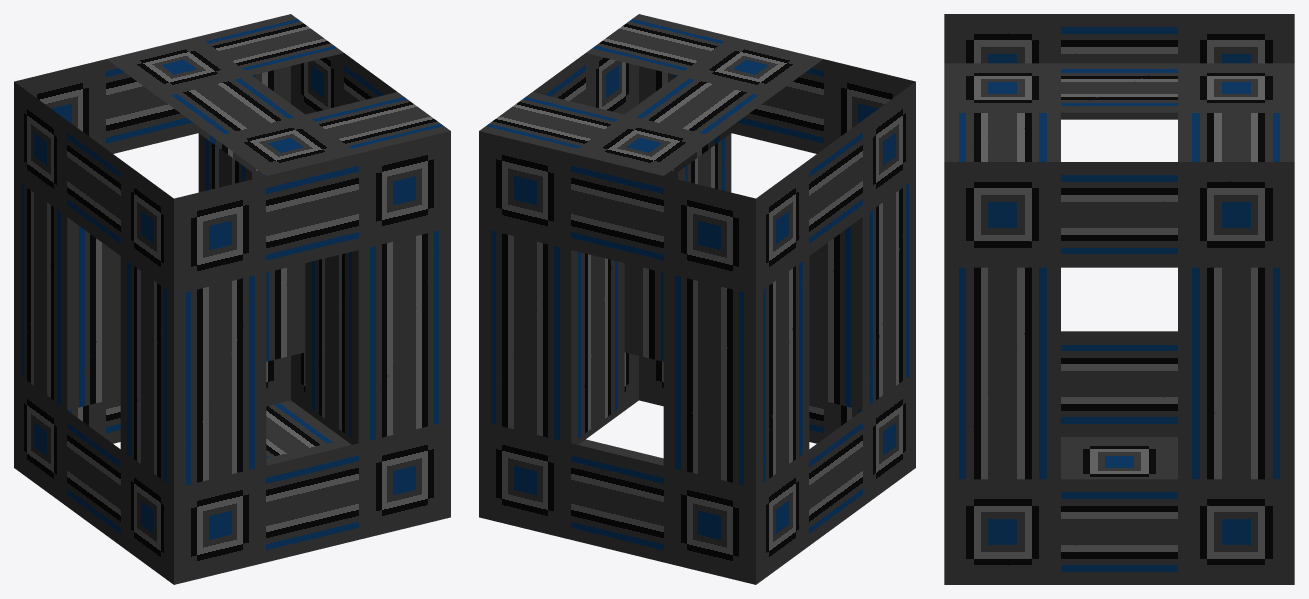
The model's file is multiblockadv.obj.
3 views of the same model, side by side, from view 1: azimuth 30°, elevation 25°; view 2: azimuth 150°, elevation 25°; view 3: azimuth 270°, elevation 25° (orthographic). The views are drawn at different scales.
Visible parts, largest first — view 1: Cube.003_Cube.006, Cube_Cube.001, Cube.002, Cube.004, Cube.001_Cube, Cube.005; view 2: Cube.003_Cube.006, Cube_Cube.001, Cube.001_Cube, Cube.005, Cube.002, Cube.004; view 3: Cube.003_Cube.006, Cube_Cube.001, Cube.005, Cube.004.
Boxes of the visible parts, bbox=[...] form: Cube.003_Cube.006: bbox=[14, 14, 450, 294]; Cube_Cube.001: bbox=[14, 352, 450, 584]; Cube.002: bbox=[120, 256, 266, 488]; Cube.004: bbox=[305, 227, 450, 443]; Cube.001_Cube: bbox=[14, 178, 120, 410]; Cube.005: bbox=[198, 131, 305, 361]; Cube.003_Cube.006: bbox=[479, 14, 915, 294]; Cube_Cube.001: bbox=[479, 352, 915, 584]; Cube.001_Cube: bbox=[663, 256, 809, 488]; Cube.005: bbox=[479, 227, 624, 443]; Cube.002: bbox=[809, 178, 915, 410]; Cube.004: bbox=[624, 131, 731, 361]; Cube.003_Cube.006: bbox=[944, 14, 1294, 267]; Cube_Cube.001: bbox=[944, 331, 1294, 584]; Cube.005: bbox=[1178, 267, 1294, 479]; Cube.004: bbox=[944, 267, 1060, 479].
Bounding box in the file's own units: 3 × 4 × 3.
